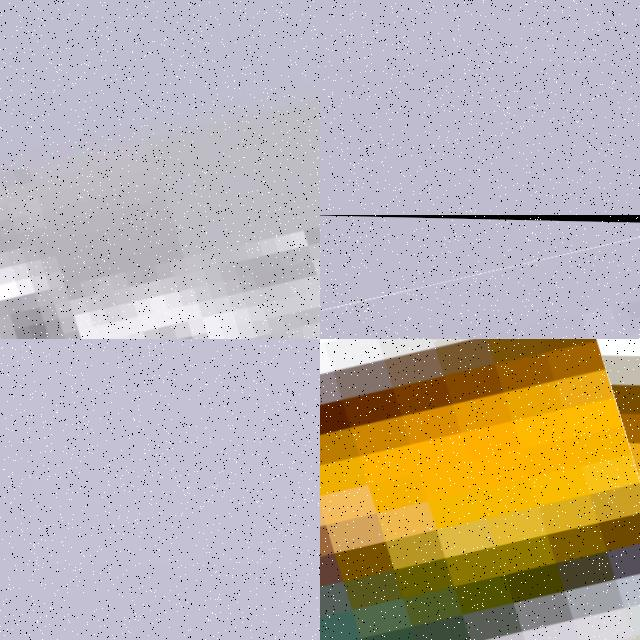0: (0, 0, 320, 339), (320, 215, 640, 339)
drone: (320, 339, 640, 640)
